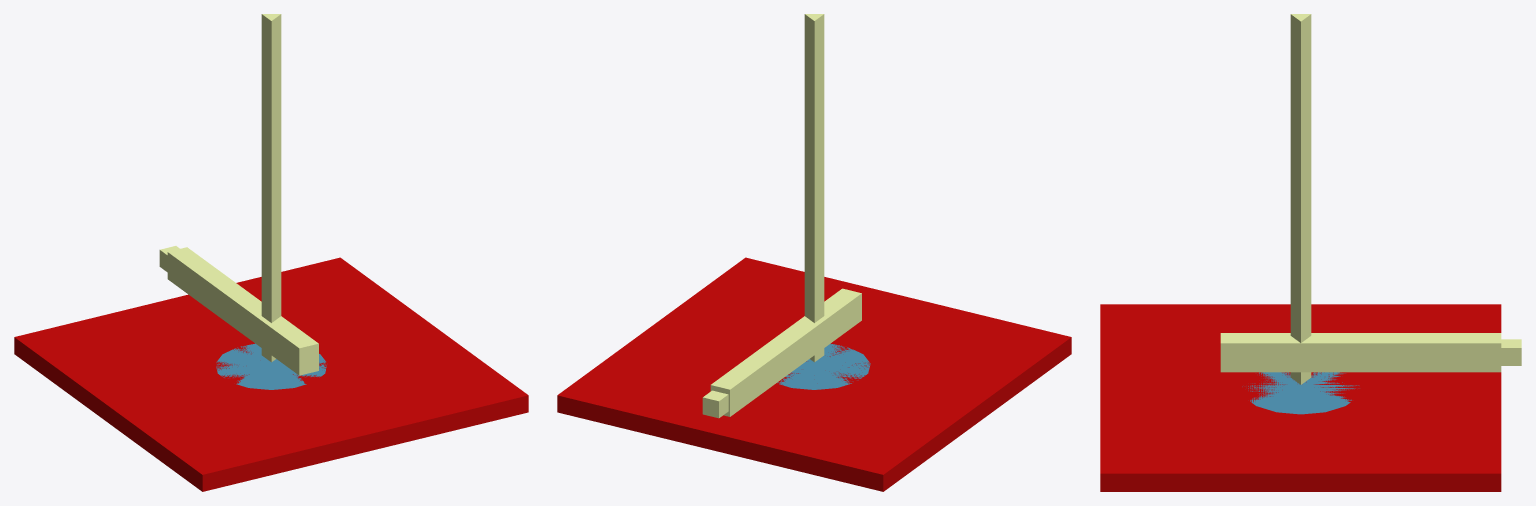
Rendered from cylindrical.dae.
3 views of the same model, side by side, from view 1: azimuth 30°, elevation 25°; view 2: azimuth 150°, elevation 25°; view 3: azimuth 270°, elevation 25° (orthographic). The views are drawn at different scales.
Parts seen in each view (by area): view 1: base_link (×2), link_2, link_1; view 2: base_link (×2), link_1, link_2, link_3; view 3: base_link (×2), link_2, link_1, link_3.
Part boxes in pixels (box(x1,y1,x2,y2)): base_link (×2): box(14, 257, 528, 491); link_2: box(167, 247, 318, 375); link_1: box(261, 14, 281, 362); base_link (×2): box(557, 257, 1071, 491); link_1: box(804, 14, 824, 362); link_2: box(710, 288, 861, 416); link_3: box(702, 390, 728, 418); base_link (×2): box(1100, 304, 1501, 491); link_2: box(1220, 333, 1501, 372); link_1: box(1290, 14, 1311, 384); link_3: box(1501, 339, 1521, 365).
Bounding box in the file's own units: 1 × 1.05 × 1.08.
